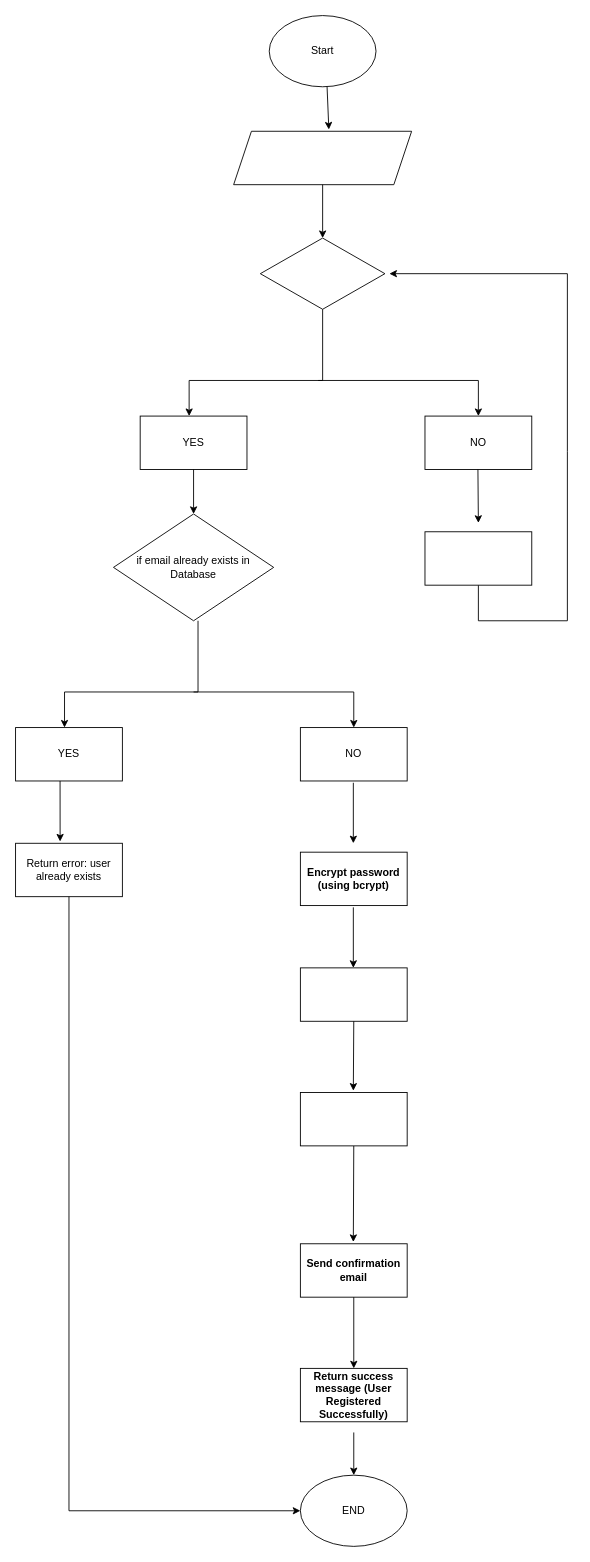
The diagram is 590 pixels wide and 1562 high, and some of its shapes have lost their labels. The shapes that lost their labels are listed below. From the top down, each one's centre as x and y in pixels, then its label:
[322,157]: User enters registration details (name, email, password)
[322,273]: Validate input fields?
[478,558]: Show ERROR Message
[353,994]: Store user record in Database
[353,1119]: Generate JWT token for session
